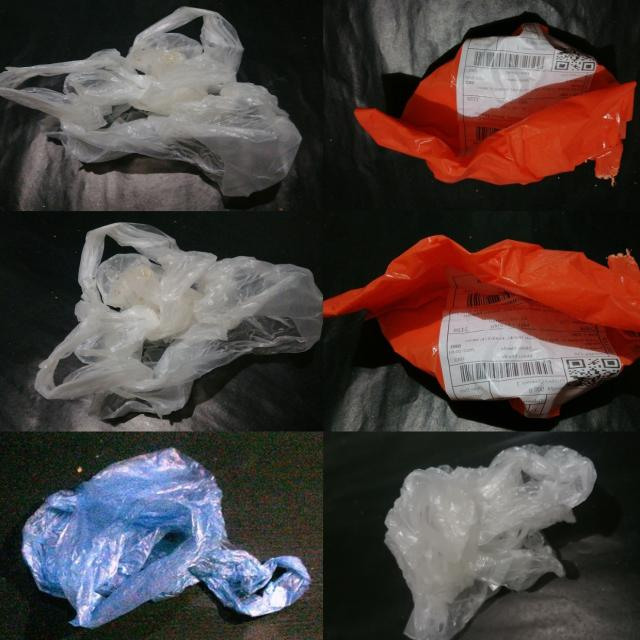plastik: (324, 236, 640, 418), (0, 6, 301, 196), (35, 223, 323, 418), (22, 448, 310, 627), (355, 22, 635, 184), (385, 445, 597, 640)
